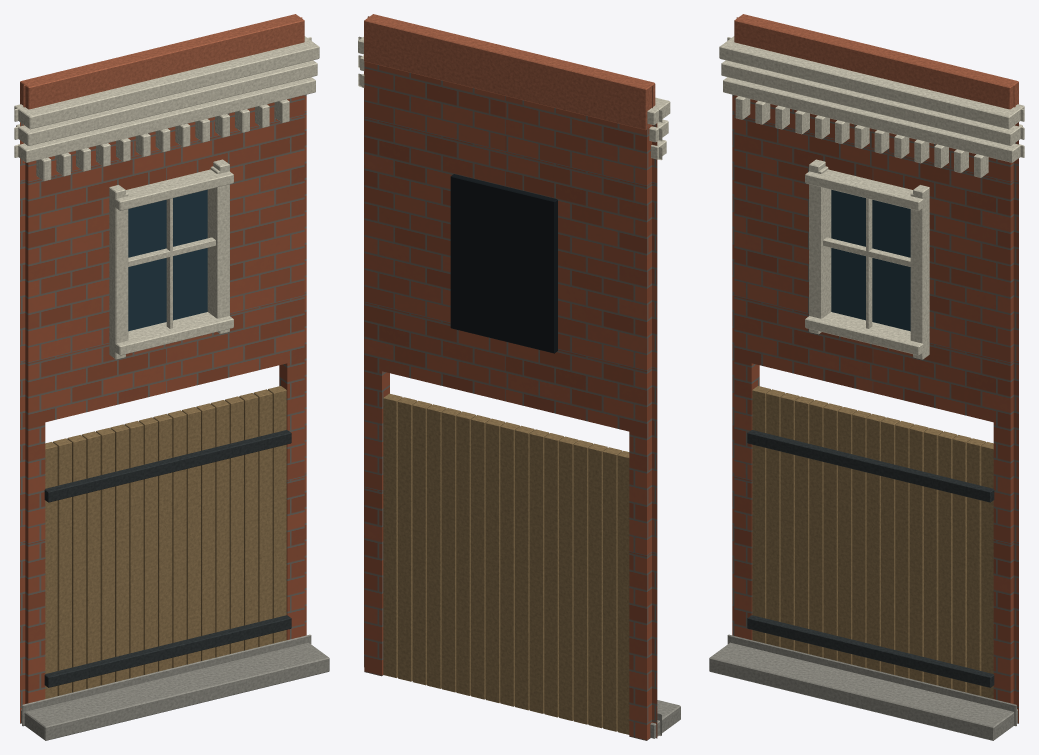
File: VICT15_lod1.glb
The picture shows the model from 3 angles, left to right: view 1: azimuth 30°, elevation 25°; view 2: azimuth 150°, elevation 25°; view 3: azimuth 330°, elevation 25°; orthographic projection. The views are drawn at different scales.
Parts seen in each view (by area): view 1: VICT15_FRONT_LOD1; view 2: VICT15_FRONT_LOD1; view 3: VICT15_FRONT_LOD1.
Boxes of the visible parts, x1,y1,x2,y2 form: VICT15_FRONT_LOD1: (14,14,329,740); VICT15_FRONT_LOD1: (358,14,680,740); VICT15_FRONT_LOD1: (709,14,1024,740).
Bounding box in the file's own units: 3.44 × 7.05 × 0.65.
9 materials, 7 textured.
